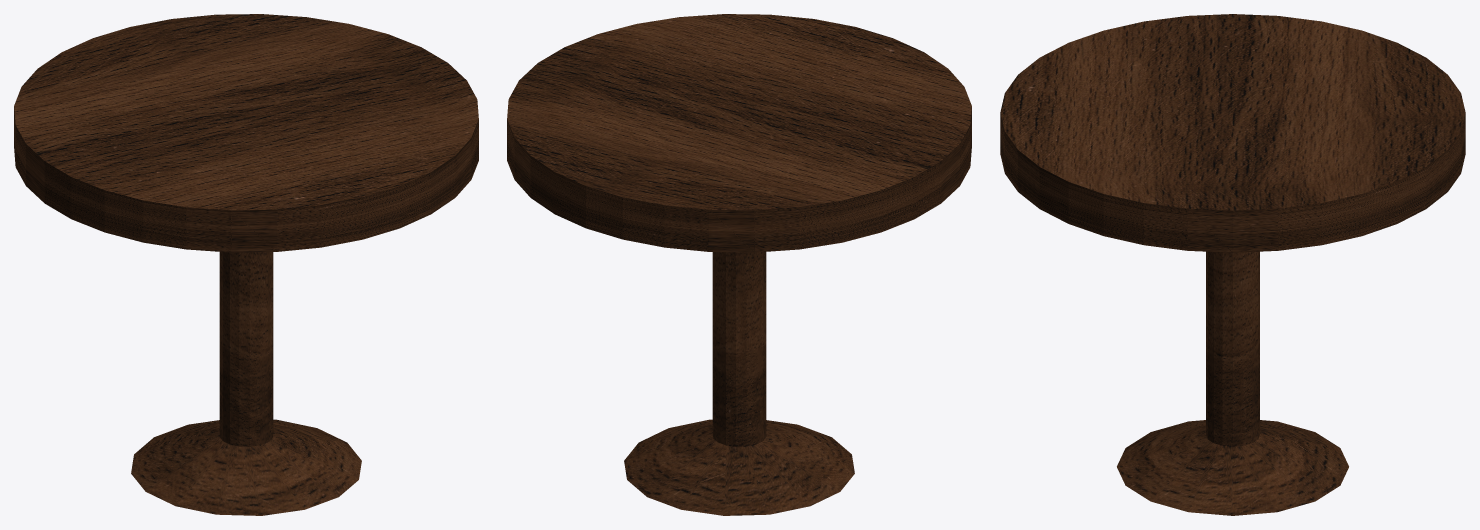
File: 3ms-Tisch.fbx
The picture shows the model from 3 angles, left to right: view 1: azimuth 30°, elevation 25°; view 2: azimuth 150°, elevation 25°; view 3: azimuth 270°, elevation 25°; orthographic projection.
Visible parts, largest first — view 1: Tischplatte, Tischbein; view 2: Tischplatte, Tischbein; view 3: Tischplatte, Tischbein.
Part boxes in pixels (x1=…): Tischplatte: x1=14, y1=14, x2=478, y2=252; Tischbein: x1=131, y1=252, x2=361, y2=515; Tischplatte: x1=507, y1=14, x2=971, y2=252; Tischbein: x1=624, y1=252, x2=854, y2=515; Tischplatte: x1=1000, y1=14, x2=1465, y2=252; Tischbein: x1=1117, y1=251, x2=1348, y2=515.
Bounding box in the file's own units: 100 × 84.1 × 100.
